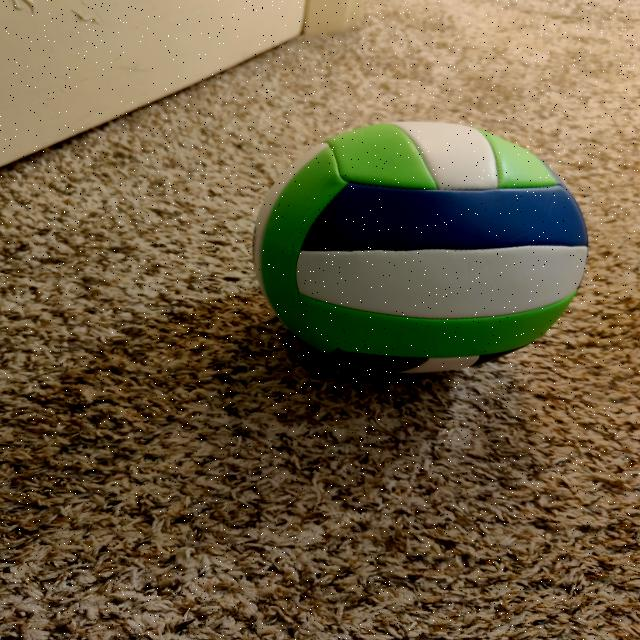ball: (258, 120, 582, 369)
